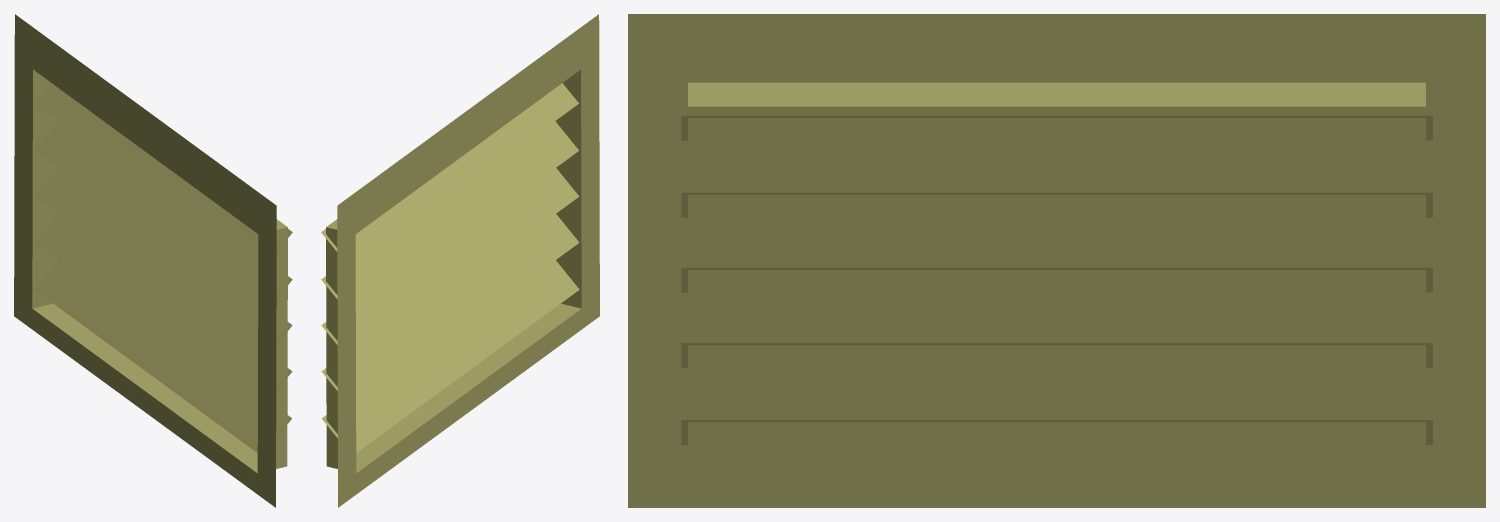
File: RejillaVentilacion.fbx
The picture shows the model from 3 angles, left to right: view 1: azimuth 30°, elevation 25°; view 2: azimuth 150°, elevation 25°; view 3: azimuth 270°, elevation 25°; orthographic projection. The views are drawn at different scales.
Visible parts, largest first — view 1: RejillaVentilacion; view 2: RejillaVentilacion; view 3: RejillaVentilacion.
Part boxes in pixels (x1,y1,x2,y2): RejillaVentilacion: (14,14,292,507); RejillaVentilacion: (321,14,599,507); RejillaVentilacion: (628,14,1485,507).
Bounding box in the file's own units: 0.0417 × 0.3626 × 0.5697.
